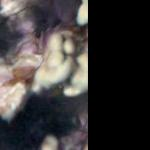alive: (1, 1, 84, 147)
